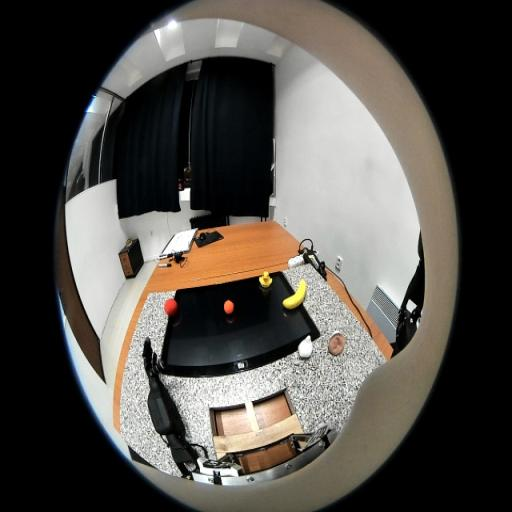Banana: (282, 279, 306, 310)
Duck: (259, 270, 273, 288)
LeftHand: (144, 358, 158, 379)
Mushroom: (328, 330, 346, 356)
Onion: (298, 335, 312, 358)
Orange: (224, 300, 234, 314)
Tomato: (164, 298, 178, 317)
